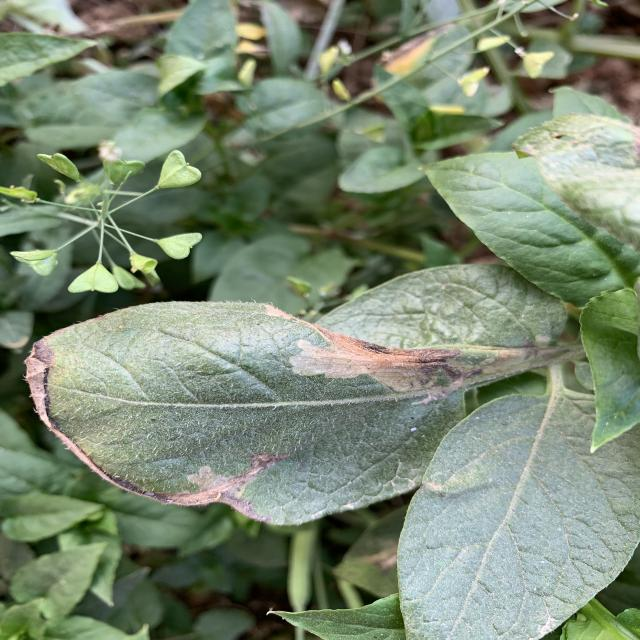lateblight: (265, 305, 482, 392), (112, 454, 290, 522), (25, 338, 95, 469)
